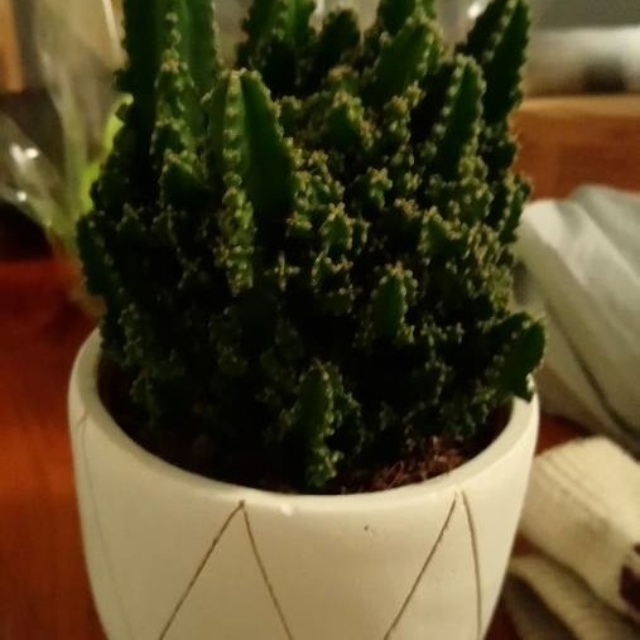obstacle: (61, 15, 547, 625)
